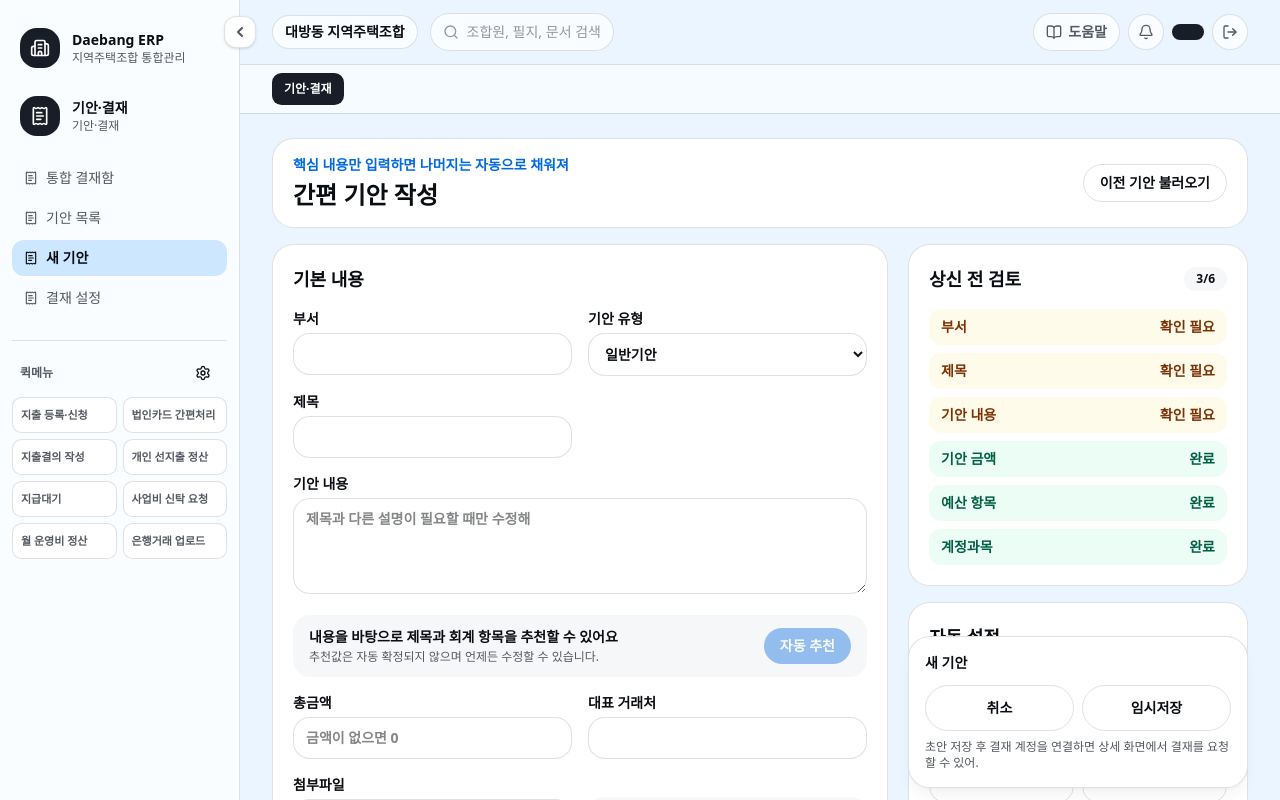
Test case: ApprovalNewPage › shows contract details only for a contract draft
Expected: the heading "계약 정보" is not shown
Select "계약기안" in the dropdown labelled "기안 유형" at (728, 354), box top-left (588, 333), bottom-right (867, 376)
(page scrolled)
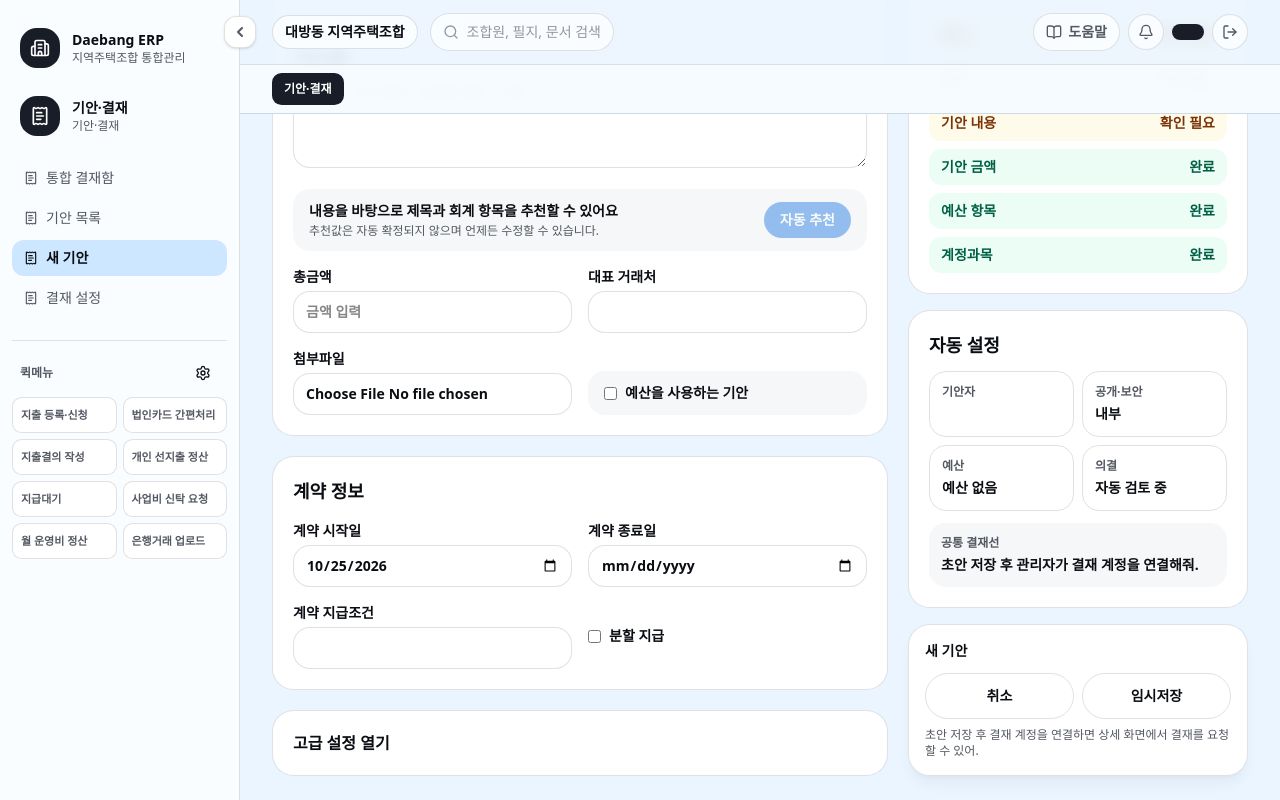
Expected: the heading "계약 정보" is shown, top-left (293, 479), bottom-right (364, 503)
